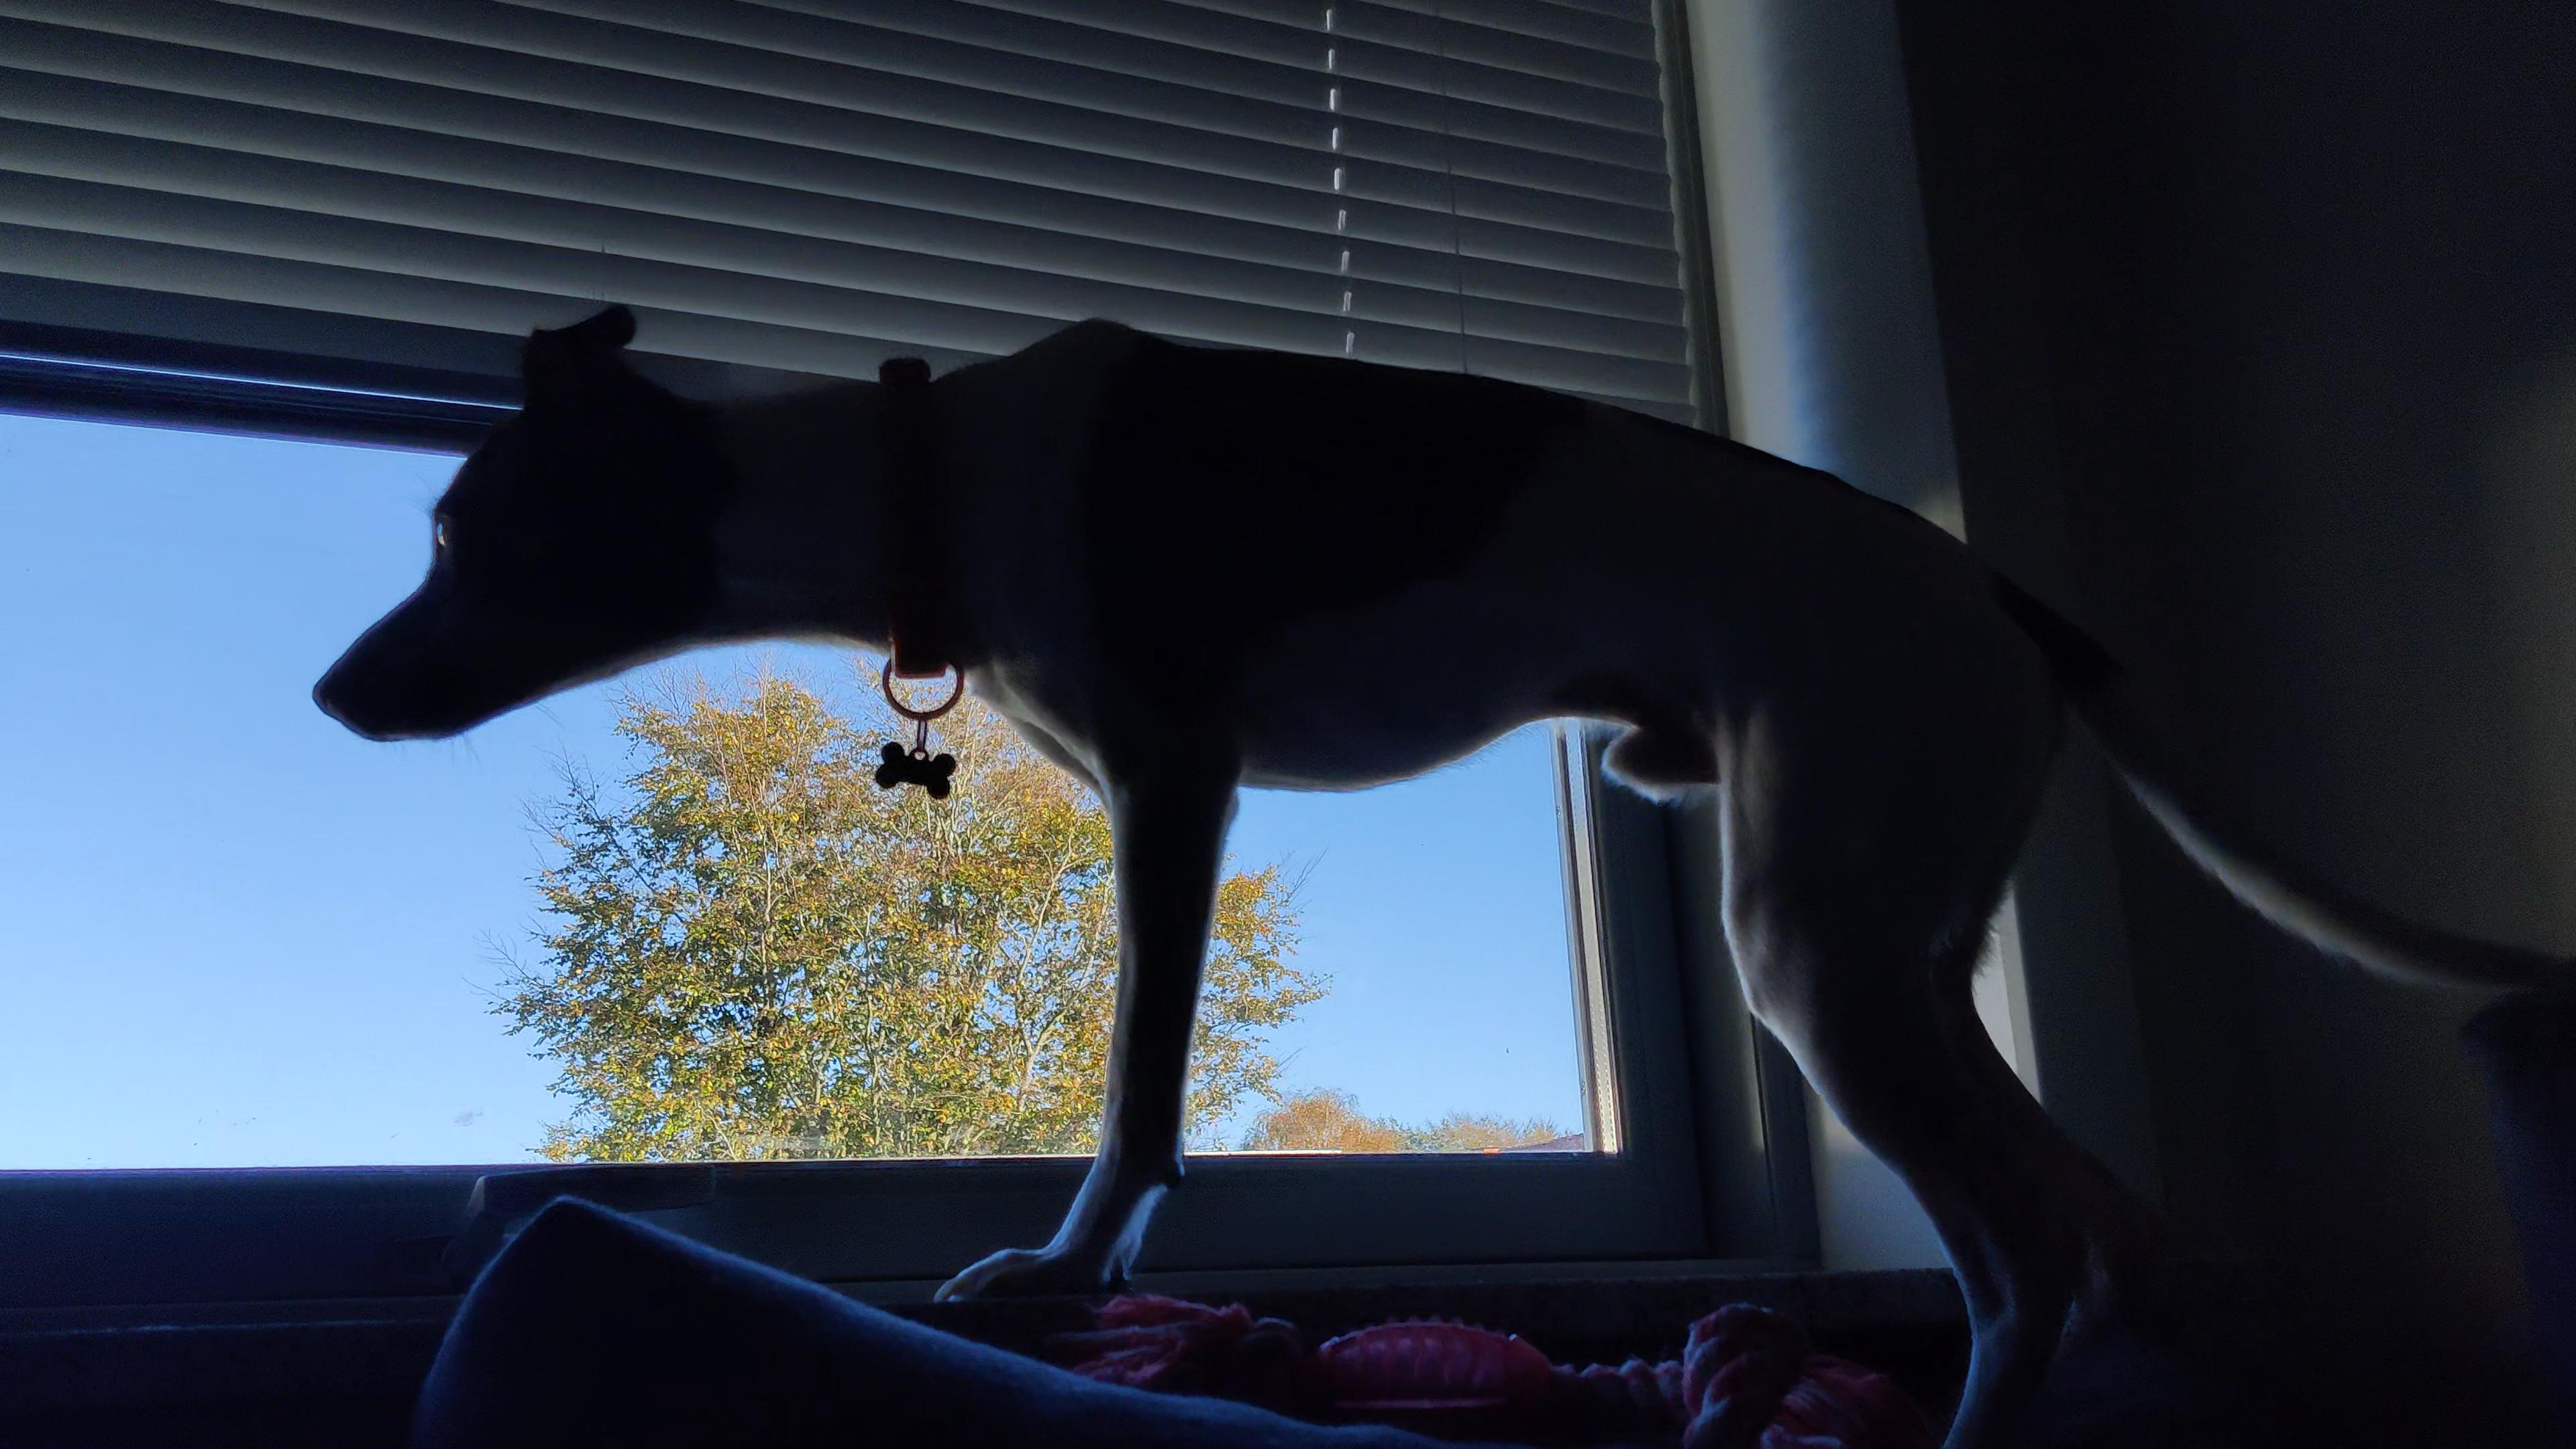Dog: (308, 292, 2576, 1449)
